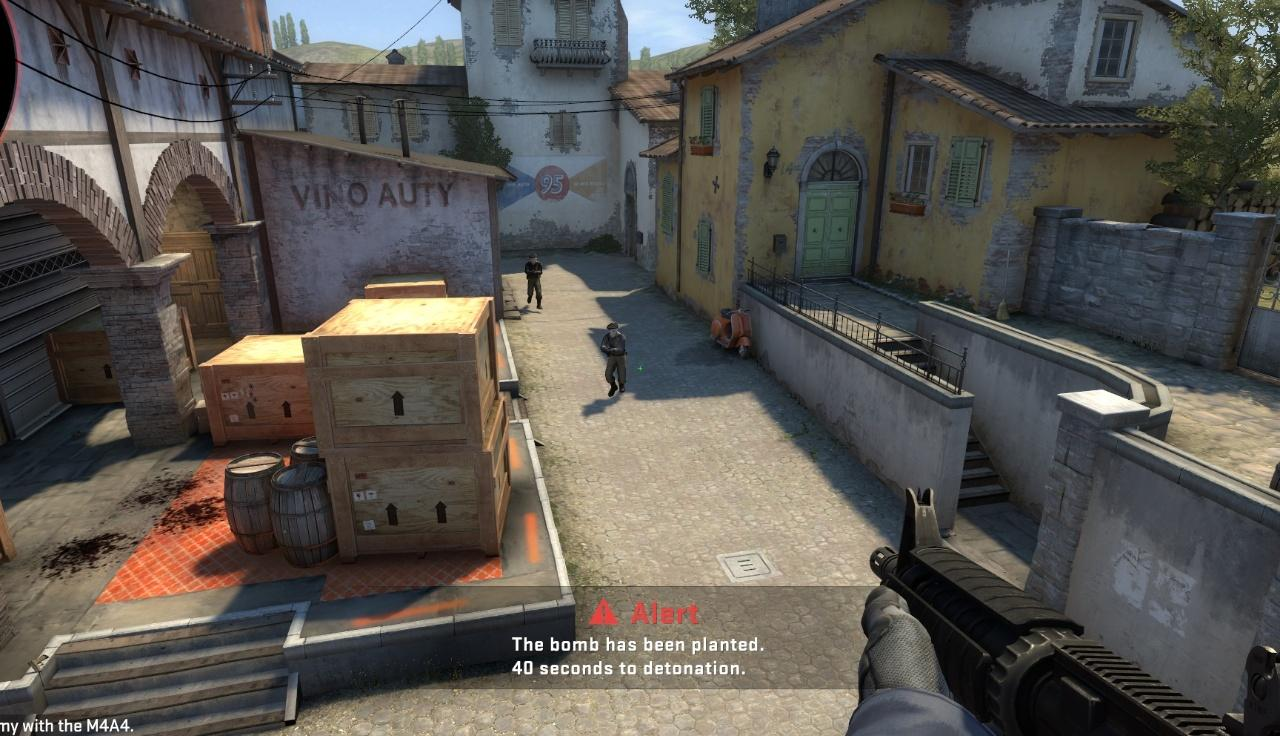rifle: (856, 485, 1280, 736)
tt: (602, 323, 627, 395), (526, 253, 542, 310)
tthead: (607, 323, 618, 337), (529, 254, 537, 264)
